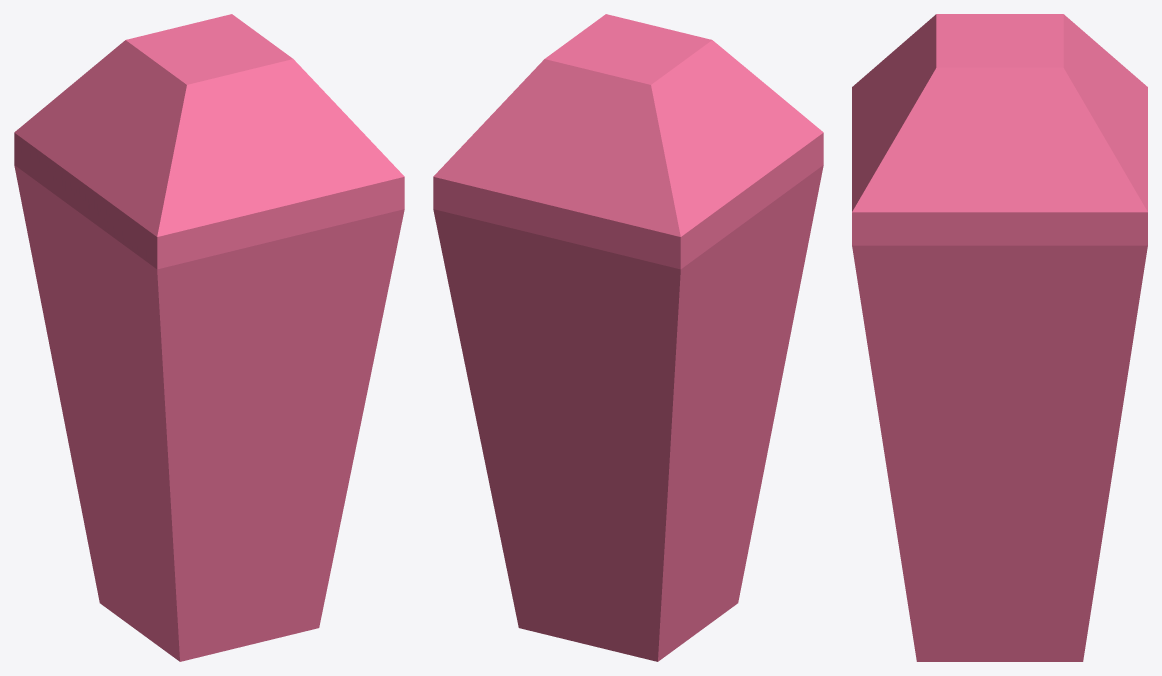
File: d_kenney_cristal.glb
3 views of the same model, side by side, from view 1: azimuth 30°, elevation 25°; view 2: azimuth 150°, elevation 25°; view 3: azimuth 270°, elevation 25° (orthographic). The views are drawn at different scales.
Parts seen in each view (by area): view 1: d_kenney_cristal; view 2: d_kenney_cristal; view 3: d_kenney_cristal.
Part boxes in pixels (bbox=[...]): d_kenney_cristal: bbox=[14, 14, 404, 661]; d_kenney_cristal: bbox=[433, 14, 823, 661]; d_kenney_cristal: bbox=[852, 14, 1147, 661].
Size of the model in its own units: 0.1602 by 0.35 by 0.1602.
Materials: 1 (1 with a texture image).
